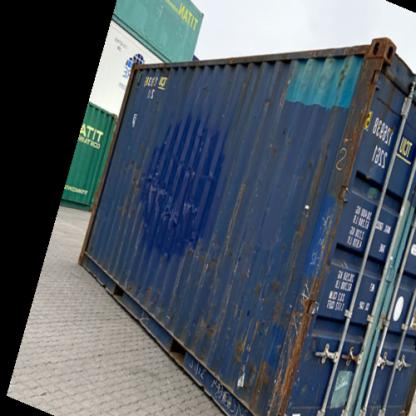Damage: (232, 355, 316, 398), (280, 271, 321, 344), (118, 278, 170, 322), (221, 185, 247, 259), (125, 164, 171, 202), (262, 71, 298, 117), (331, 50, 353, 98), (192, 312, 224, 344), (174, 150, 204, 181), (181, 238, 208, 272), (334, 131, 354, 176), (179, 194, 198, 212)
